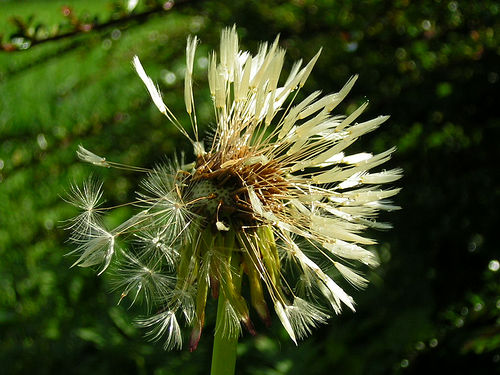dandelion: (53, 21, 410, 361)
